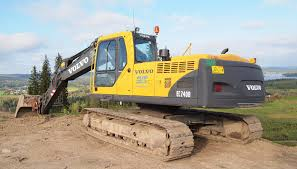excavator: (14, 28, 266, 158)
